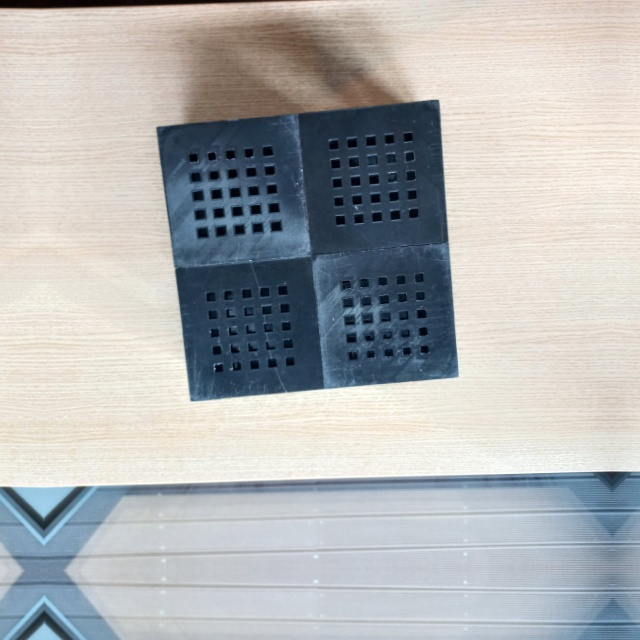pallet: (151, 91, 462, 407)
